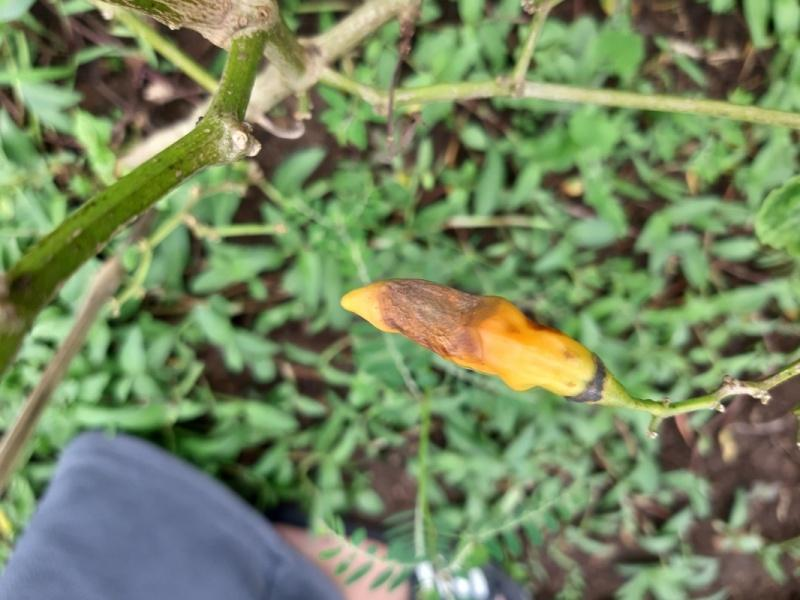antraknosa: (340, 280, 600, 396)
